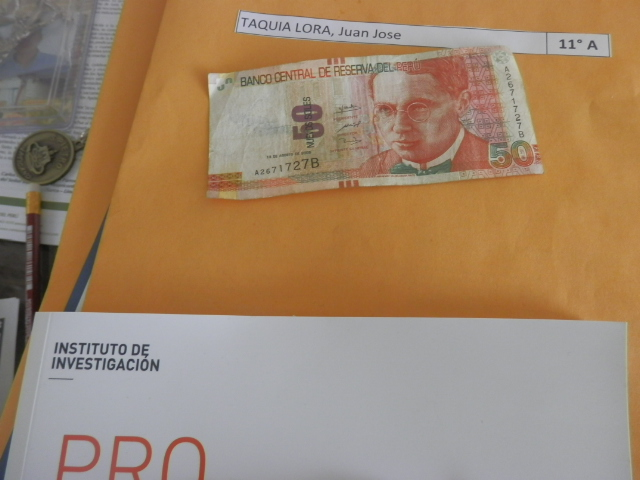B50: (200, 51, 544, 202)
